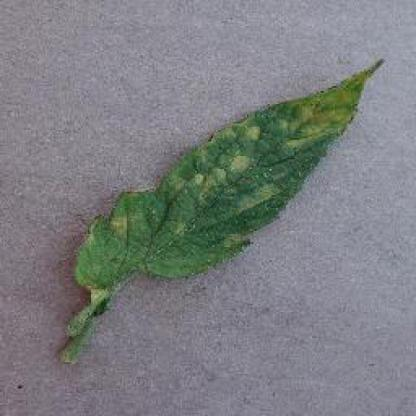Tomato_Leaf_Mold: (69, 58, 382, 290)
